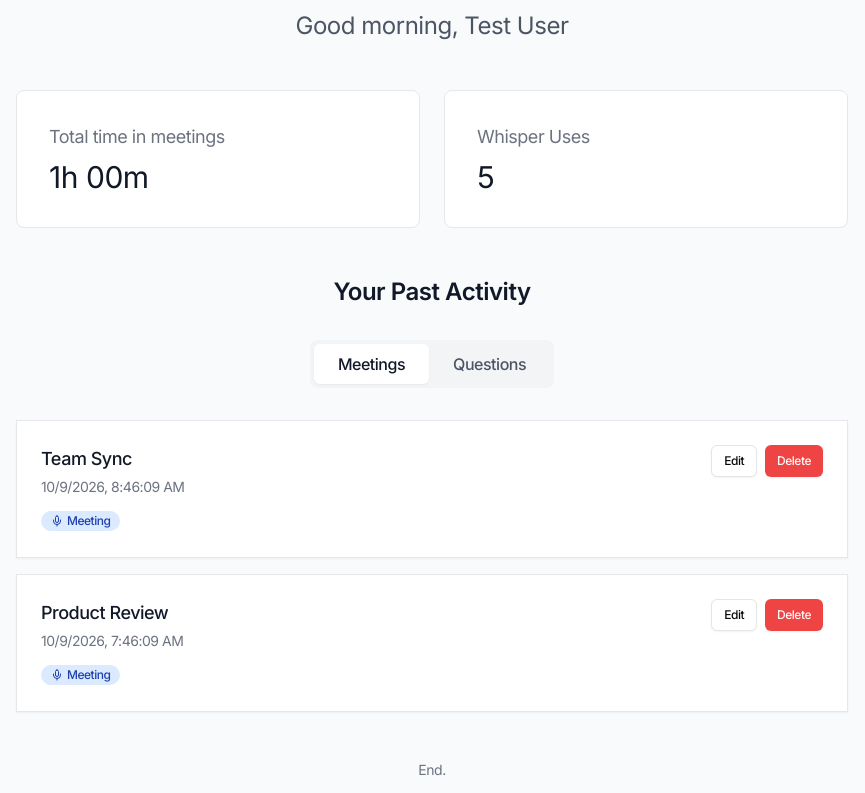
it: ActivityPage › shows empty state when no questions
Expected: the text "Team Sync" is shown, [41,448,132,469]
Click the button "Questions" at point(490, 364), box [429,344,550,384]
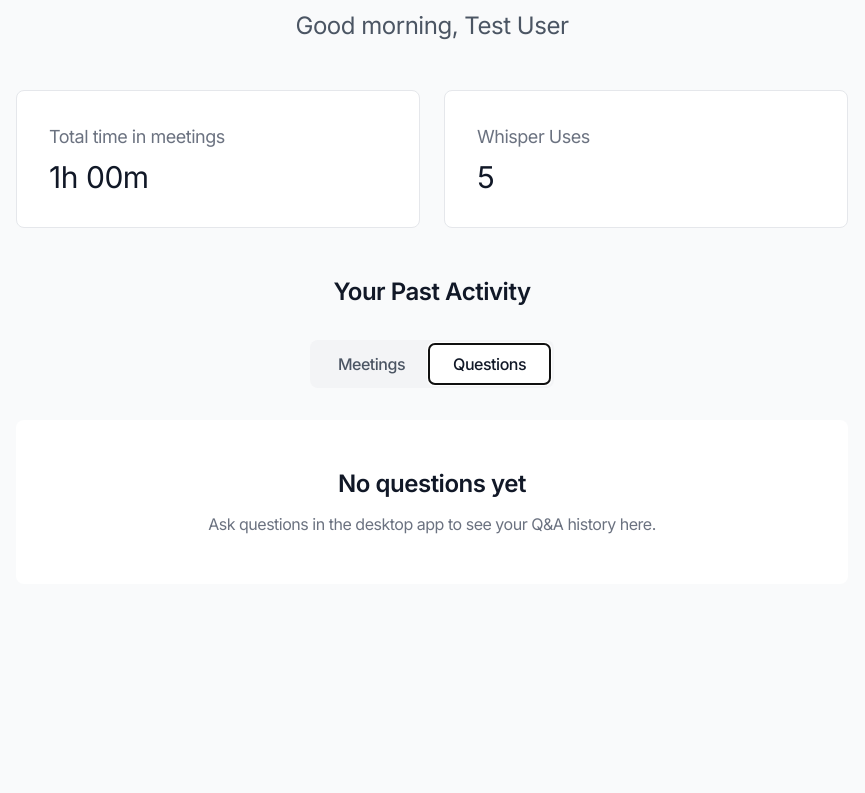
Now the heading "No questions yet" is shown, box [338,469,526,498]
